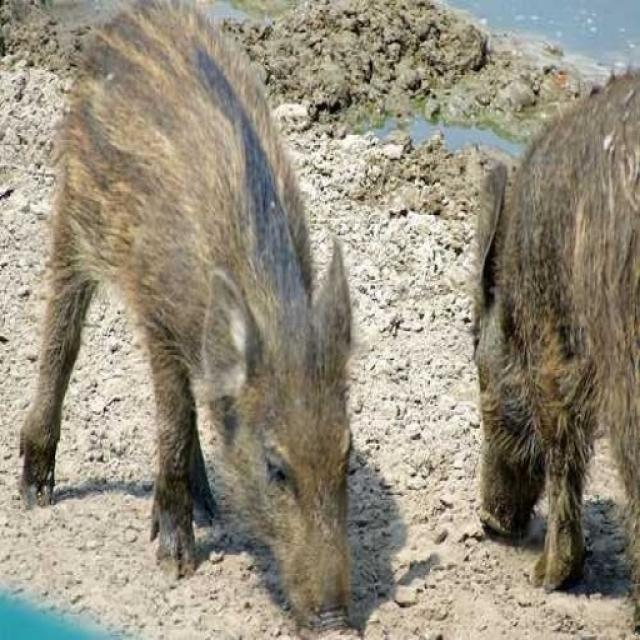pig: (22, 0, 360, 610)
